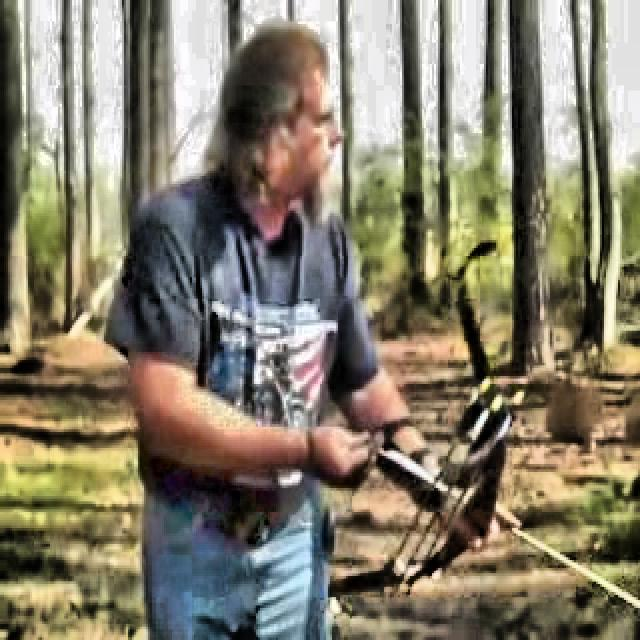I: (123, 20, 528, 591)
